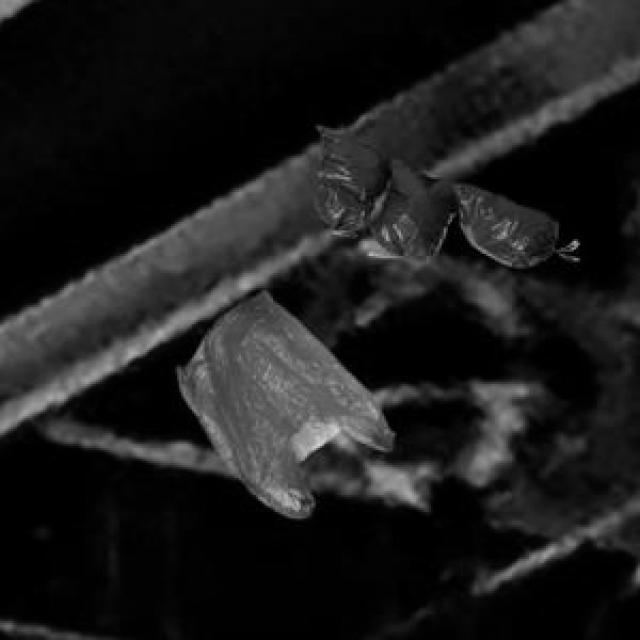miscellaneous trash: (312, 123, 555, 262)
